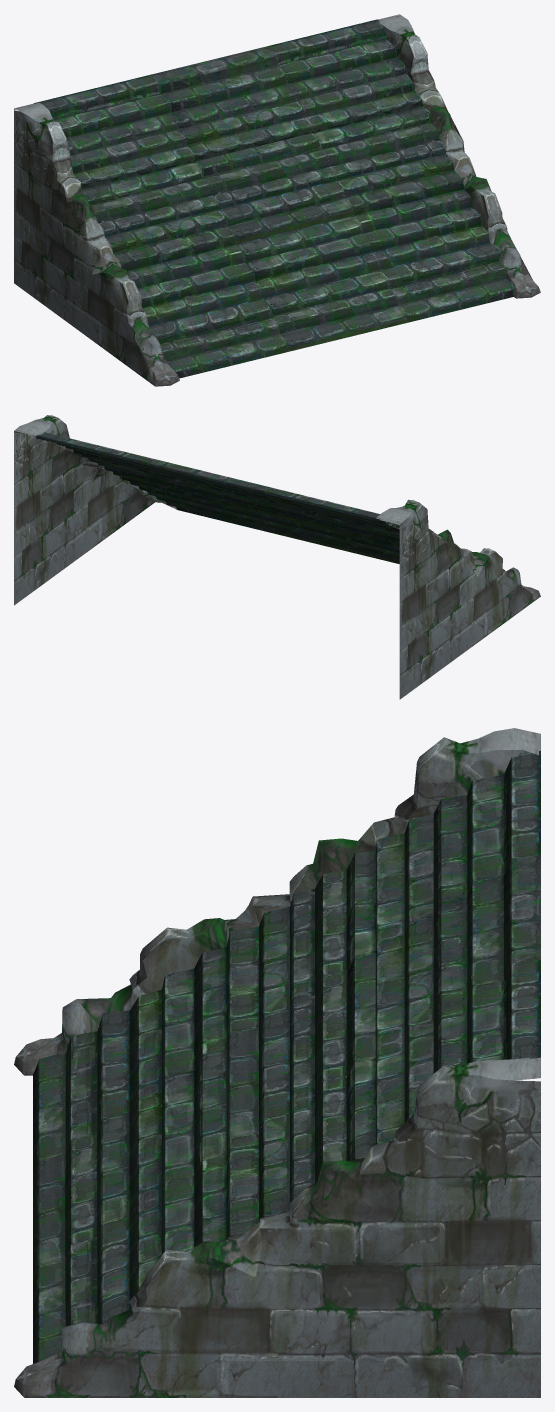
File: stemple_wall_stair_03.fbx
3 renders of one model, top to bottom at view 1: azimuth 30°, elevation 25°; view 2: azimuth 150°, elevation 25°; view 3: azimuth 270°, elevation 25°, orthographic. The views are drawn at different scales.
Parts seen in each view (by area): view 1: stemple_wall_stair_03-0; view 2: stemple_wall_stair_03-0; view 3: stemple_wall_stair_03-0.
Part boxes in pixels (left/top/right/bottom): stemple_wall_stair_03-0: left=14, top=14, right=540, bottom=386; stemple_wall_stair_03-0: left=14, top=415, right=540, bottom=699; stemple_wall_stair_03-0: left=14, top=728, right=540, bottom=1397.
Size of the model in its own units: 12.91 by 5.69 by 8.3.
